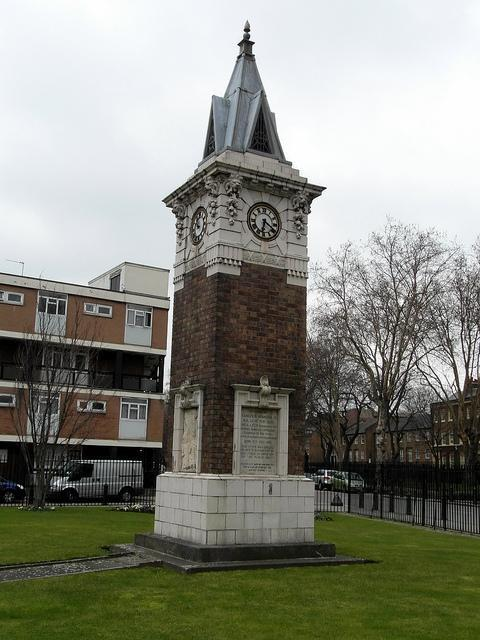car: (310, 468, 338, 492), (334, 471, 364, 492), (1, 476, 25, 502)
truck: (49, 460, 144, 504)
